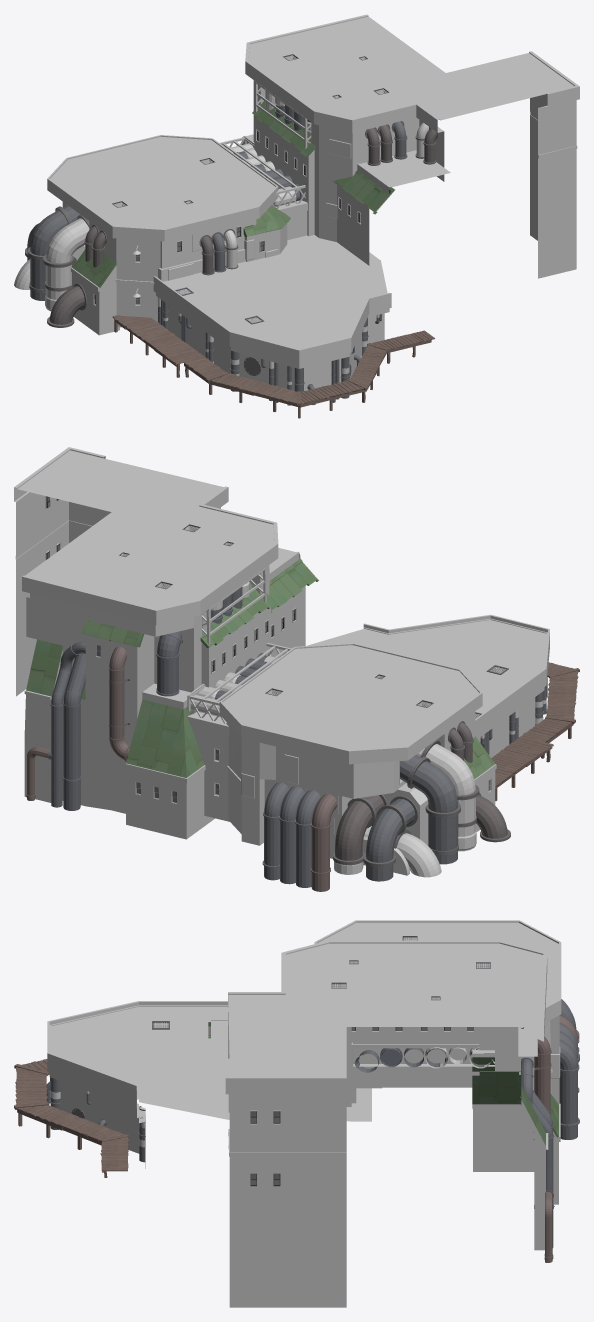
Rendered from AreaI_Building_Aa.fbx.
3 views of the same model, one above another, from view 1: azimuth 30°, elevation 25°; view 2: azimuth 150°, elevation 25°; view 3: azimuth 270°, elevation 25° (orthographic). The views are drawn at different scales.
Visible parts, largest first — view 1: SM_ENV_AMVLLG02_AreaI_Building_Aa.mo; view 2: SM_ENV_AMVLLG02_AreaI_Building_Aa.mo; view 3: SM_ENV_AMVLLG02_AreaI_Building_Aa.mo.
Part boxes in pixels (x1=…): SM_ENV_AMVLLG02_AreaI_Building_Aa.mo: x1=14, y1=14, x2=579, y2=418; SM_ENV_AMVLLG02_AreaI_Building_Aa.mo: x1=14, y1=447, x2=579, y2=891; SM_ENV_AMVLLG02_AreaI_Building_Aa.mo: x1=14, y1=920, x2=579, y2=1307.
Size of the model in its own units: 4850 by 2022 by 4131.
